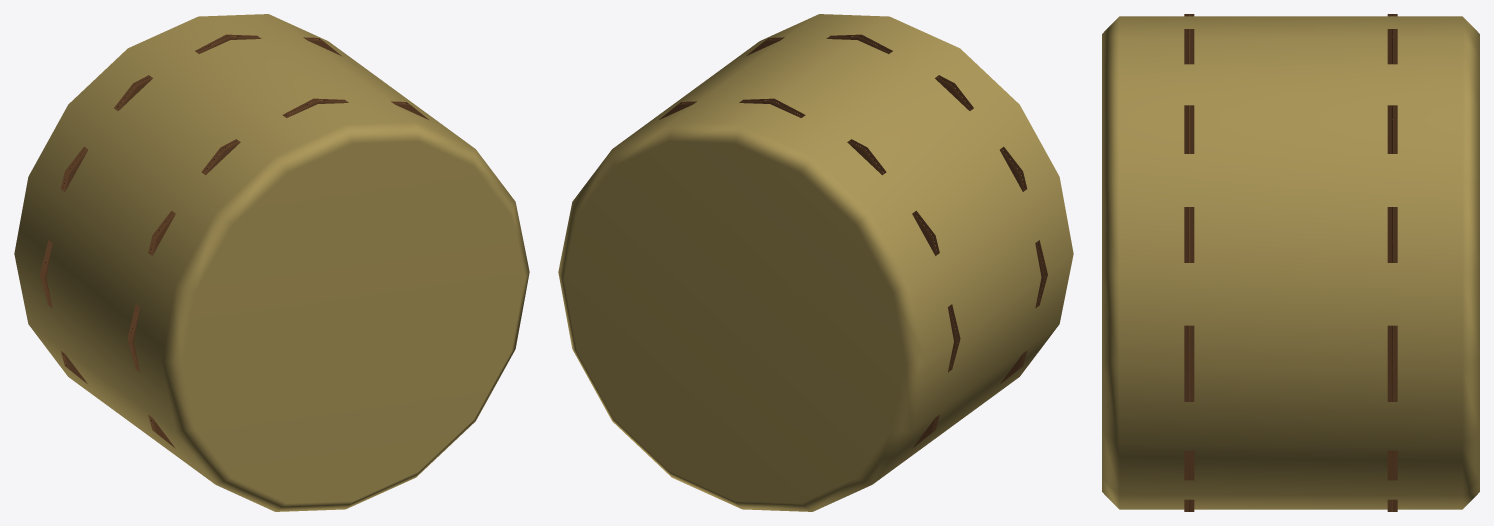
File: hay.glb
3 renders of one model, left to right at view 1: azimuth 30°, elevation 25°; view 2: azimuth 150°, elevation 25°; view 3: azimuth 270°, elevation 25°, orthographic. The views are drawn at different scales.
Visible parts, largest first — view 1: hay; view 2: hay; view 3: hay.
Part boxes in pixels (left/top/right/bottom): hay: left=14, top=14, right=529, bottom=511; hay: left=558, top=14, right=1073, bottom=511; hay: left=1102, top=14, right=1479, bottom=511.
Bounding box in the file's own units: 1.72 × 1.72 × 1.3.
